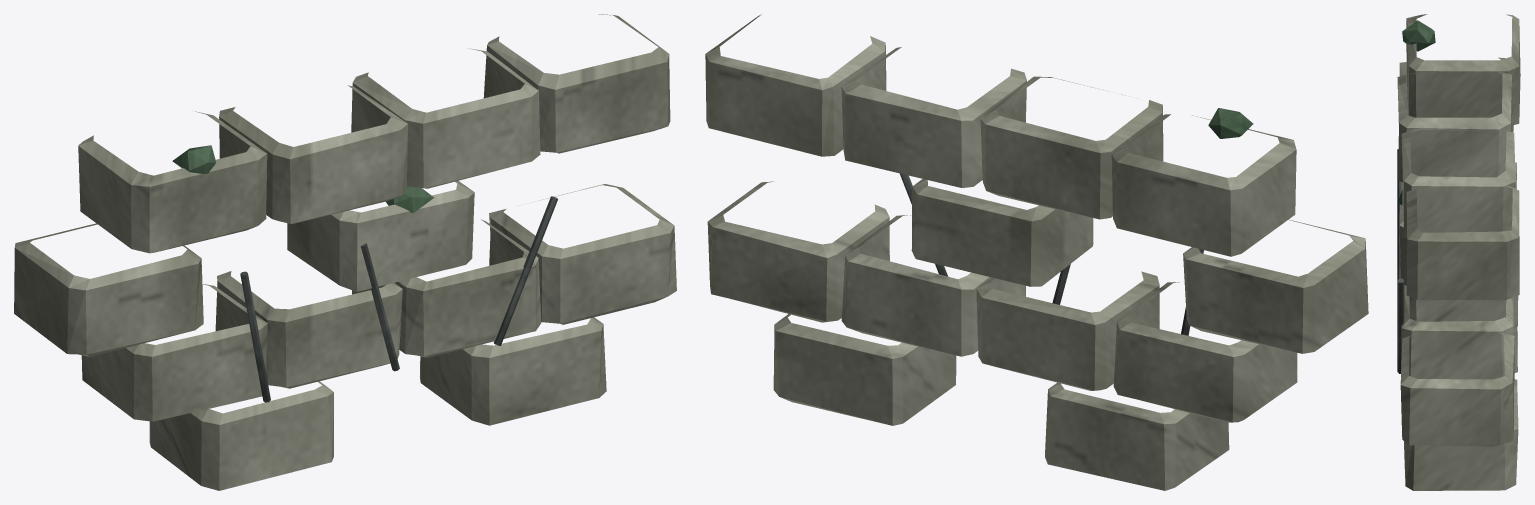
Rendered from 0344_wall_section_19.glb.
3 renders of one model, left to right at view 1: azimuth 30°, elevation 25°; view 2: azimuth 150°, elevation 25°; view 3: azimuth 270°, elevation 25°, orthographic. The views are drawn at different scales.
Visible parts, largest first — view 1: stone_light, iron, moss; view 2: stone_light, moss, iron; view 3: stone_light, iron, moss.
Boxes of the visible parts, x1,y1,x2,y2 form: stone_light: (14,14,676,490); iron: (240,196,557,402); moss: (172,145,434,212); stone_light: (705,14,1368,490); moss: (1208,108,1253,138); iron: (899,173,1203,335); stone_light: (1397,14,1520,490); iron: (1397,149,1404,373); moss: (1398,20,1435,205).
Size of the model in its own units: 2.87 by 1.56 by 0.5811.
Materials: 3 (3 with a texture image).
